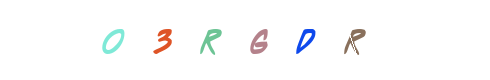3: (130, 0, 210, 80)
D: (252, 0, 332, 80)
G: (205, 0, 285, 80)
O: (124, 0, 204, 80)
R: (170, 0, 250, 80), (265, 0, 345, 80)
